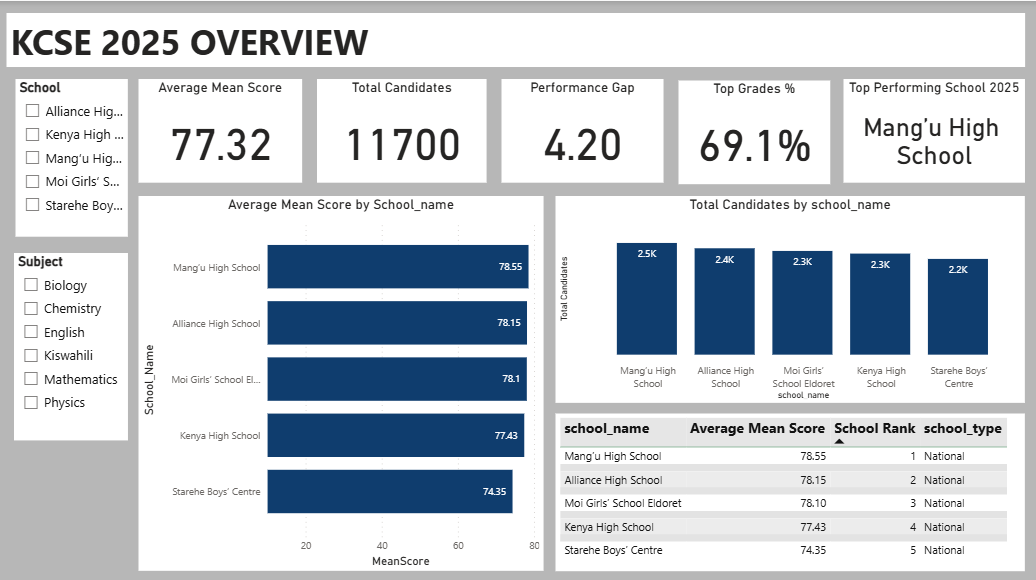

The dashboard page shown, as its layout file describes it:
{"tool":"powerbi","page":{"name":"Executive Overview","canvas":[1280,720],"ordinal":0},"visuals":[{"type":"card","title":"Average Mean Score","fields":{"Values":["School.Average Mean Score"]},"box":[172.2,96.3,201.8,127.8],"z":0},{"type":"card","title":"Total Candidates","fields":{"Values":["School.Total Candidates"]},"box":[392.5,96.3,209.2,127.8],"z":1000},{"type":"card","title":"Top Grades %","fields":{"Values":["School.Top Grades %"]},"box":[838.7,98.1,187,127.8],"z":2000},{"type":"clusteredBarChart","title":"Average Mean Score by School_name","fields":{"Category":["School.school_name"],"Y":["School.Average Mean Score"]},"box":[172.2,240.7,499.9,462.9],"z":3000},{"type":"tableEx","fields":{"Values":["School.school_name","School.Average Mean Score","School.School Rank","School.school_type"]},"box":[686.9,509.2,579.5,194.4],"z":4000},{"type":"card","title":"Top Performing School 2025","fields":{"Values":["School.Top Performing School"]},"box":[1042.4,96.3,224,127.8],"z":5000},{"type":"card","title":"Performance Gap","fields":{"Values":["School.Performance Gap"]},"box":[620.3,96.3,200,127.8],"z":6000},{"type":"clusteredColumnChart","title":"Total Candidates by school_name","fields":{"Y":["Sum(results.total_candidates)"],"Category":["School.school_name"]},"box":[686.9,240.7,579.5,255.5],"z":7000},{"type":"slicer","title":"School","fields":{"Values":["School.school_name"]},"box":[20.4,96.3,138.9,194.4],"z":8000},{"type":"slicer","title":"Subject","fields":{"Values":["Subjects.subject_name"]},"box":[18.5,311.1,140.7,231.4],"z":9000},{"type":"textbox","box":[9.3,14.8,1257.2,66.7],"z":10000}]}

Visuals, with their boxes in screenshot pixels (x1, y1, x2, y2), scaled from the page's 1280x720 canvas onto the 1036x580 screenshot:
"Average Mean Score" card: 139, 78, 303, 181
"Total Candidates" card: 318, 78, 487, 181
"Top Grades %" card: 679, 79, 830, 182
"Average Mean Score by School_name" clusteredBarChart: 139, 194, 544, 567
tableEx - School.school_name x School.Average Mean Score: 556, 410, 1025, 567
"Top Performing School 2025" card: 844, 78, 1025, 181
"Performance Gap" card: 502, 78, 664, 181
"Total Candidates by school_name" clusteredColumnChart: 556, 194, 1025, 400
"School" slicer: 17, 78, 129, 234
"Subject" slicer: 15, 251, 129, 437
textbox: 8, 12, 1025, 66
